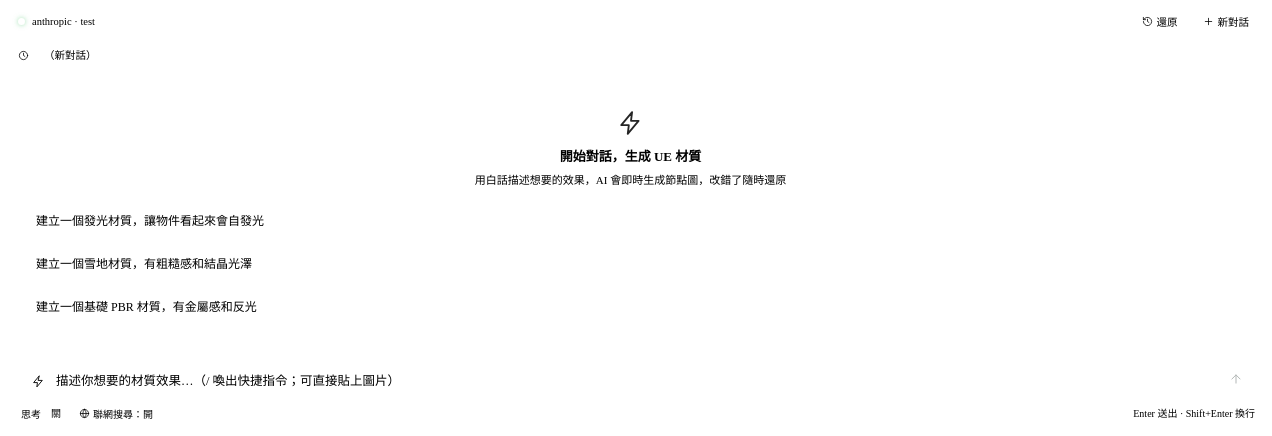
Test: AgentChat › renders a notice item when a limit event arrives
Step 1. Type "觸發上限" into the text box with placeholder "描述你想要的材質效果…（/ 喚出快捷指令；可直接貼上圖片）" → (635, 382), box [56,372,1214,391]
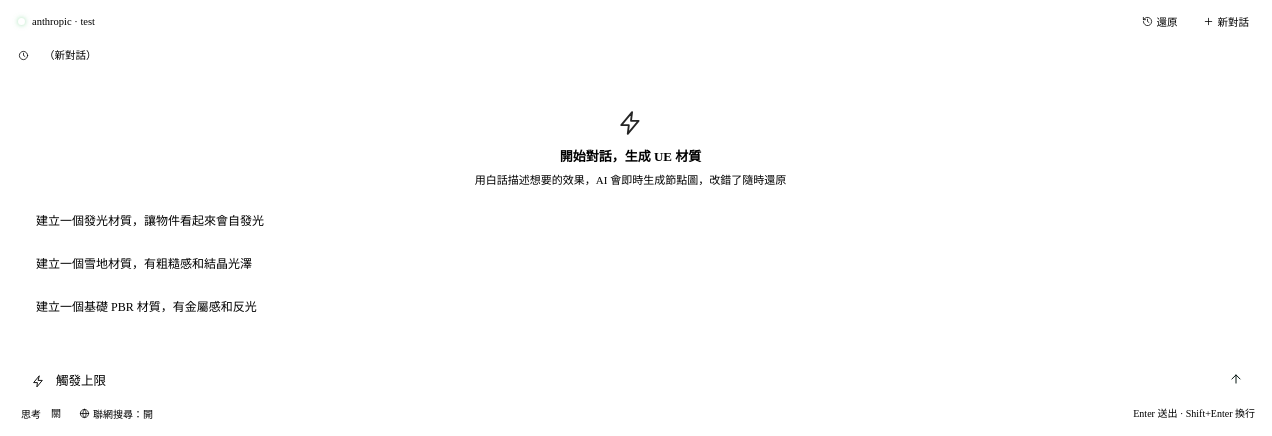
Step 2. Press Enter in the text box, box [56,372,1214,391]
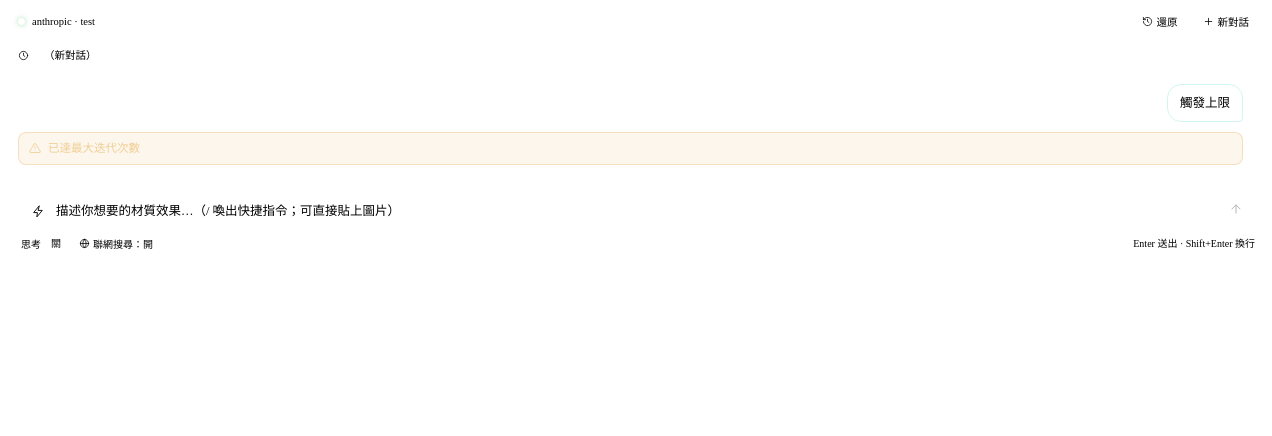
Result: the element with class "limit" is shown at [18,132,1243,165]
Result: the text "已達最大迭代次數" is shown at [48,140,140,157]
